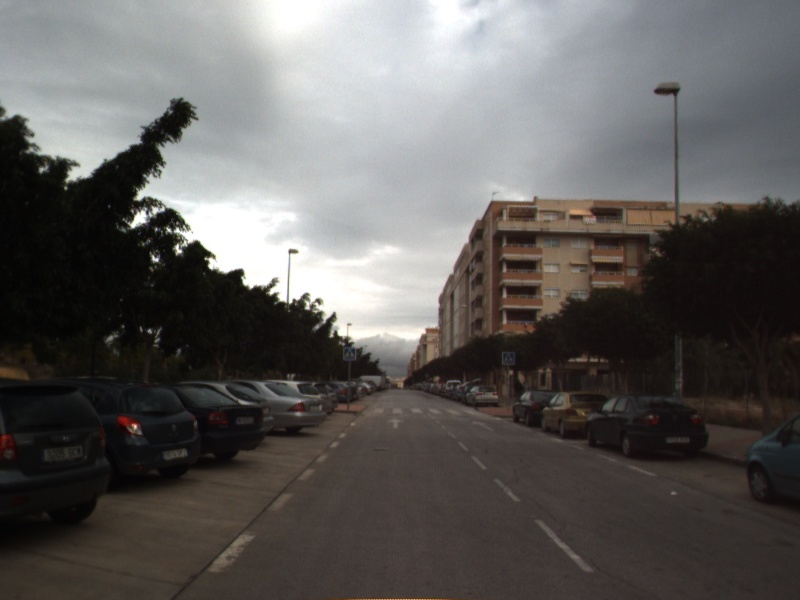STRAIGHT: (469, 419, 496, 433), (385, 416, 406, 430)
